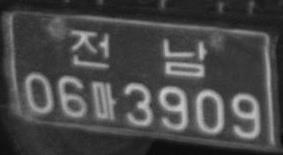0: (194, 86, 226, 136), (23, 70, 57, 116)
3: (123, 80, 153, 127)
6: (57, 73, 89, 118)
9: (230, 91, 262, 141), (157, 84, 189, 132)
마: (90, 79, 117, 122)
전남_D: (69, 26, 208, 78)
